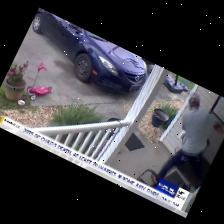person: (151, 94, 223, 184)
